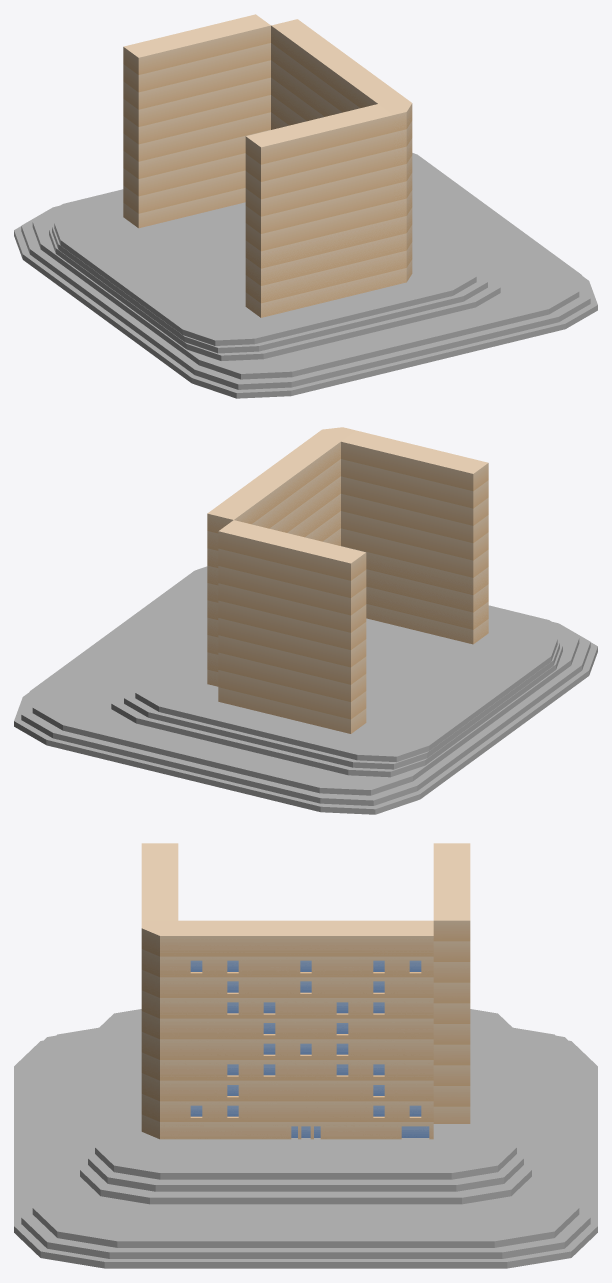
Rendered from building.glb.
3 views of the same model, one above another, from view 1: azimuth 30°, elevation 25°; view 2: azimuth 150°, elevation 25°; view 3: azimuth 270°, elevation 25° (orthographic). The views are drawn at different scales.
Parts seen in each view (by area): view 1: building-block.010; view 2: building-block.010; view 3: building-block.010.
Boxes of the visible parts, <box> form: building-block.010: <box>14,14,597,398</box>; building-block.010: <box>14,427,597,814</box>; building-block.010: <box>14,843,597,1268</box>.
Bounding box in the file's own units: 15 × 7.35 × 16.
Materials: 87 (83 with a texture image).
